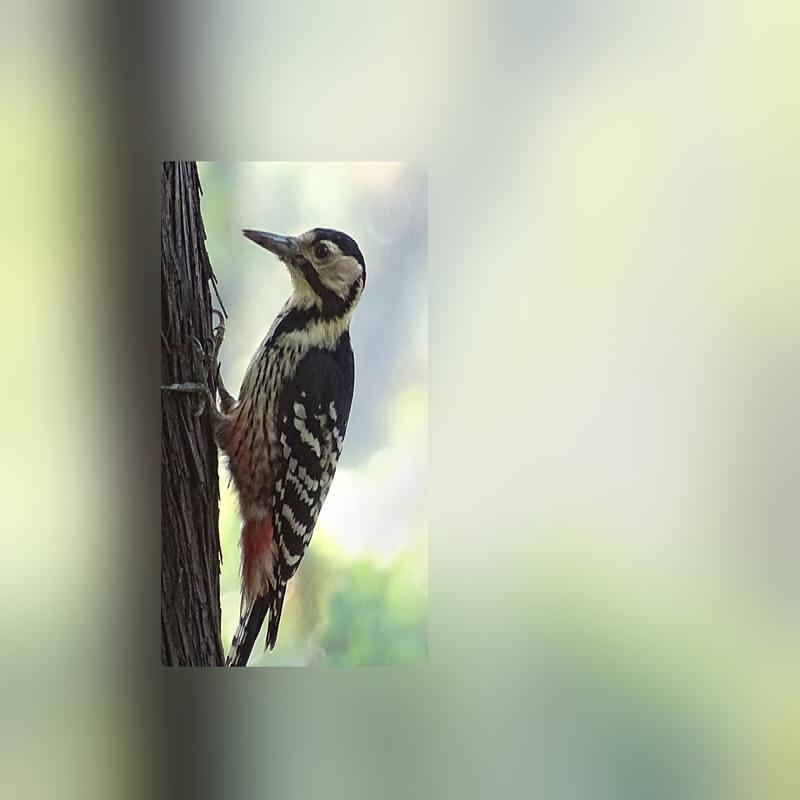white-backed woodpecker: (183, 219, 384, 659)
